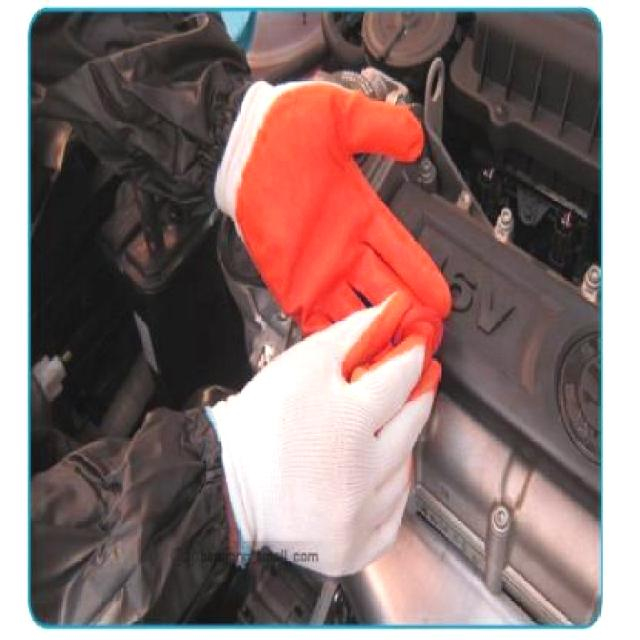hand_glove: (234, 81, 451, 387), (227, 288, 441, 587)
